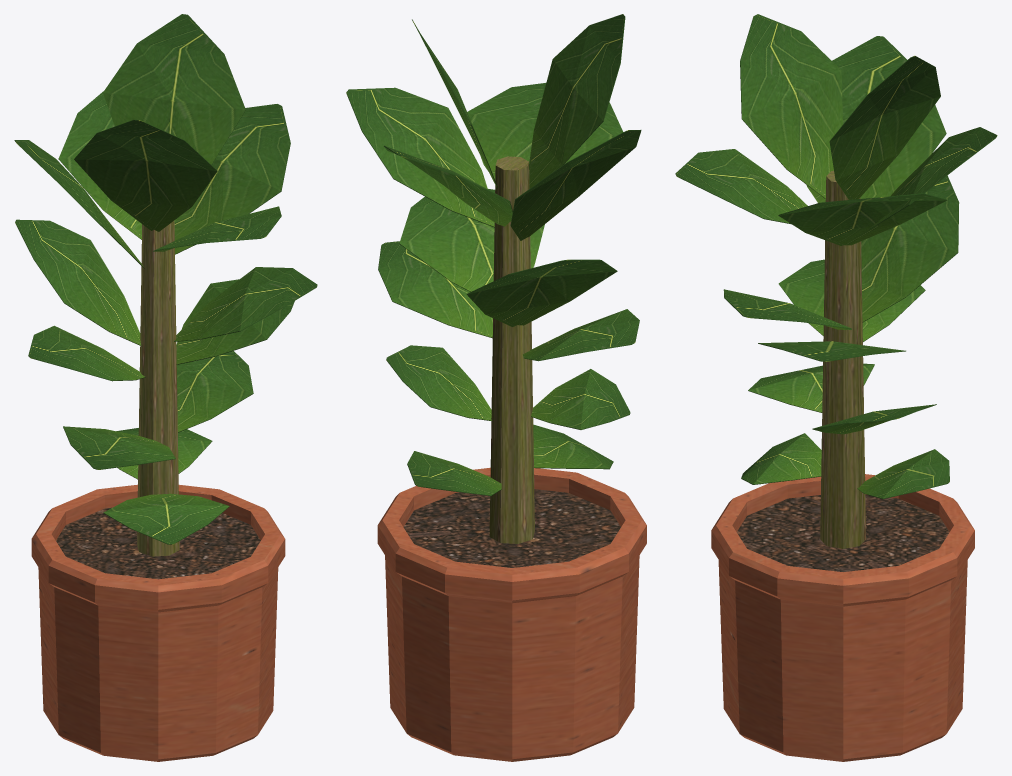
The model's file is plant.glb.
3 renders of one model, left to right at view 1: azimuth 30°, elevation 25°; view 2: azimuth 150°, elevation 25°; view 3: azimuth 270°, elevation 25°, orthographic. The views are drawn at different scales.
Visible parts, largest first — view 1: core_plant; view 2: core_plant; view 3: core_plant.
Part boxes in pixels (<box>): core_plant: <box>14,14,317,761</box>; core_plant: <box>346,14,646,761</box>; core_plant: <box>675,14,997,761</box>.
Bounding box in the file's own units: 0.4124 × 0.985 × 0.4184.
1 material, 1 textured.
